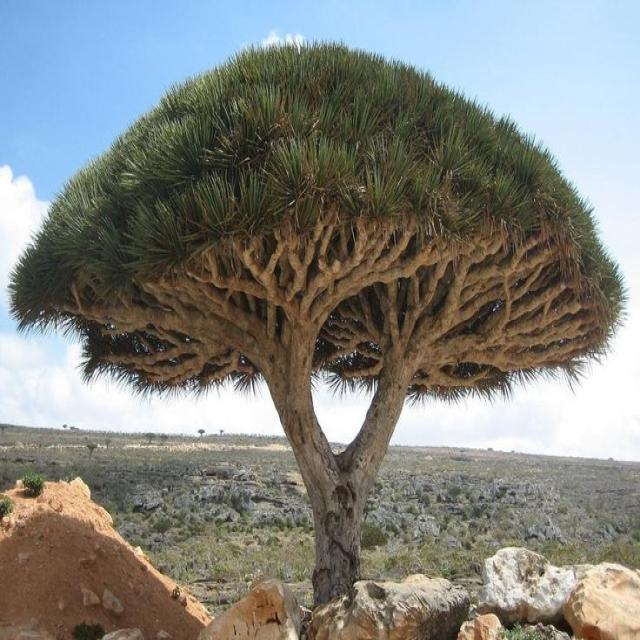Acacia: (31, 22, 628, 500)
